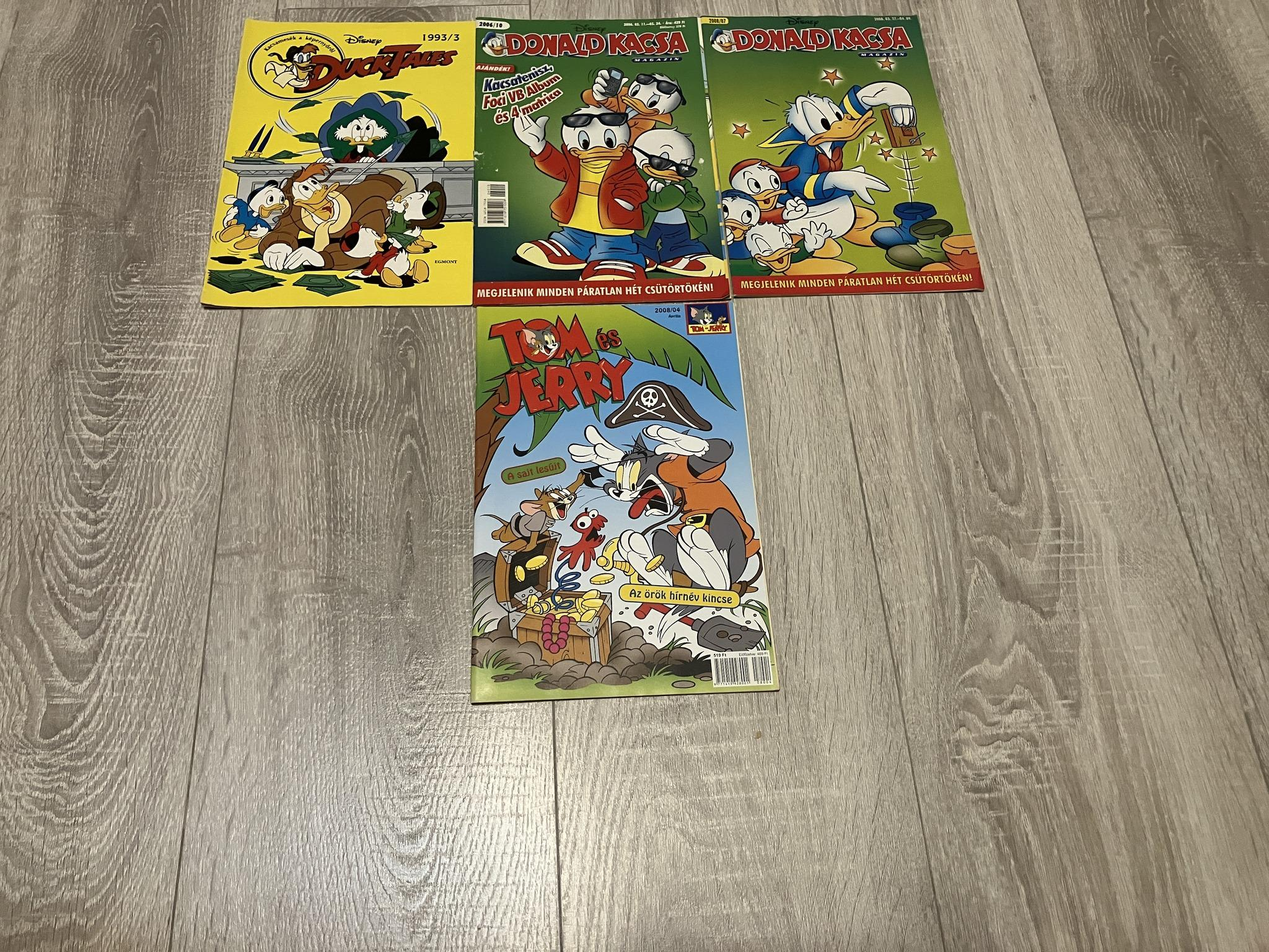comic: (458, 298, 776, 702), (701, 0, 982, 316), (202, 20, 474, 308), (470, 17, 728, 305)
